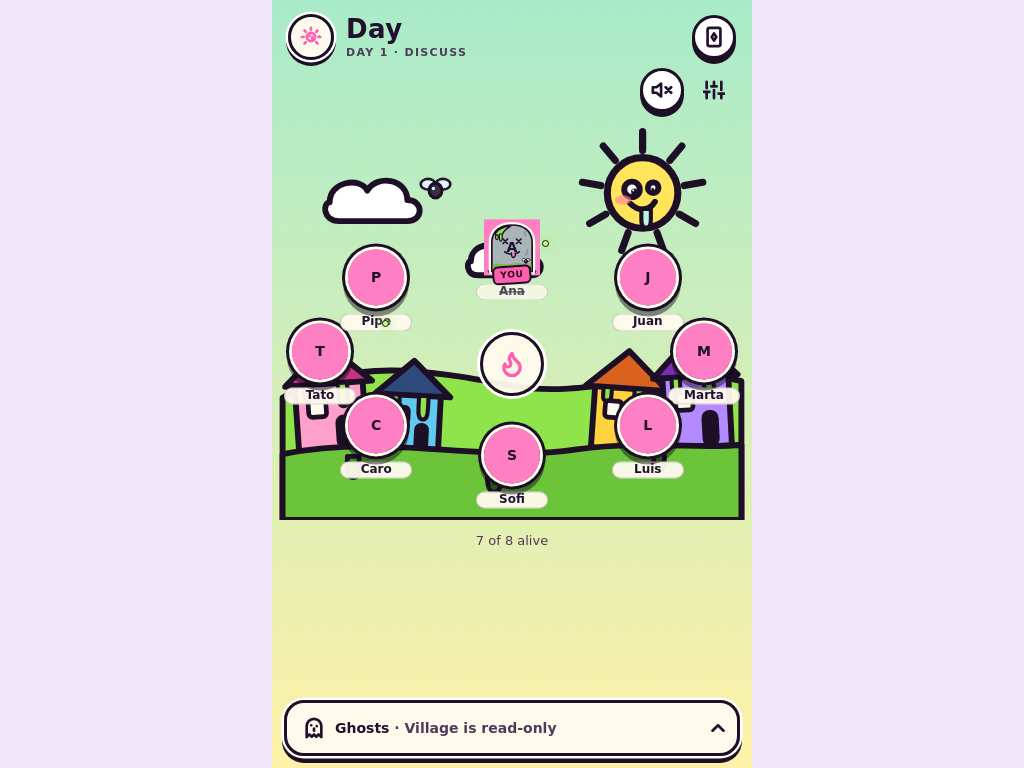
it: chat bar and sheet › keeps the village read-only for a ghost and opens on the ghosts
The image size is (1024, 768).
Click the button with class "chatbar" at {"x": 512, "y": 728}, box [284,700,740,756]
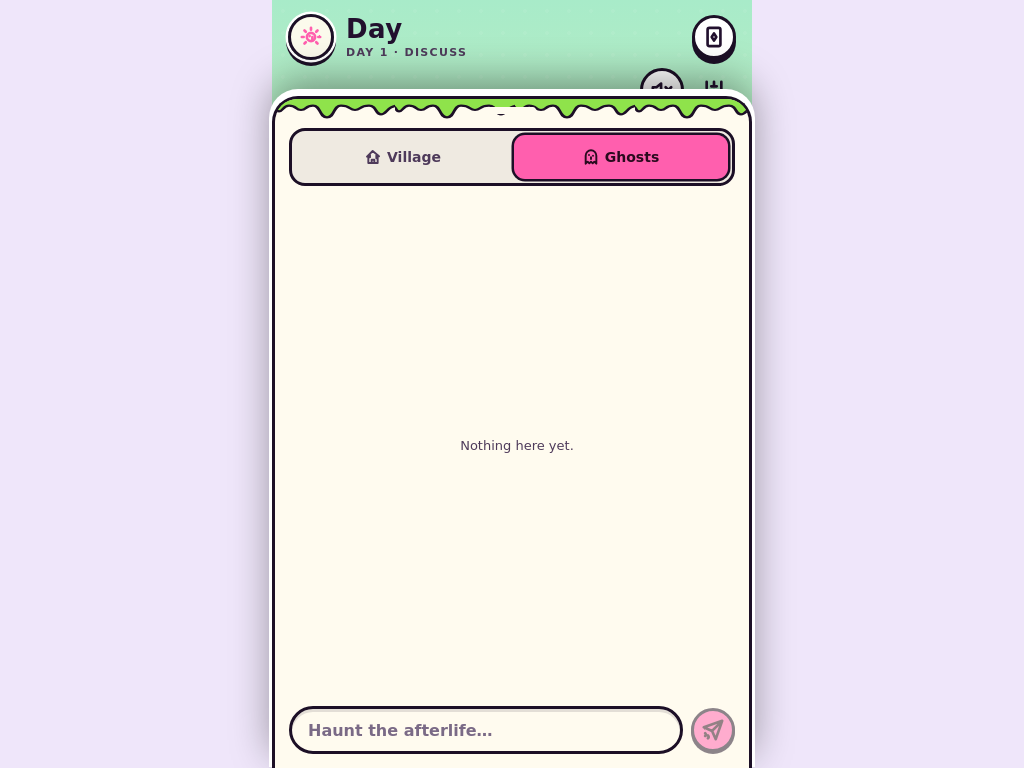
Result: the form with class "composer" is shown at [289,706,735,754]
Click the tab with class "tab" showing "Village" at {"x": 403, "y": 157}, box [296,135,510,179]
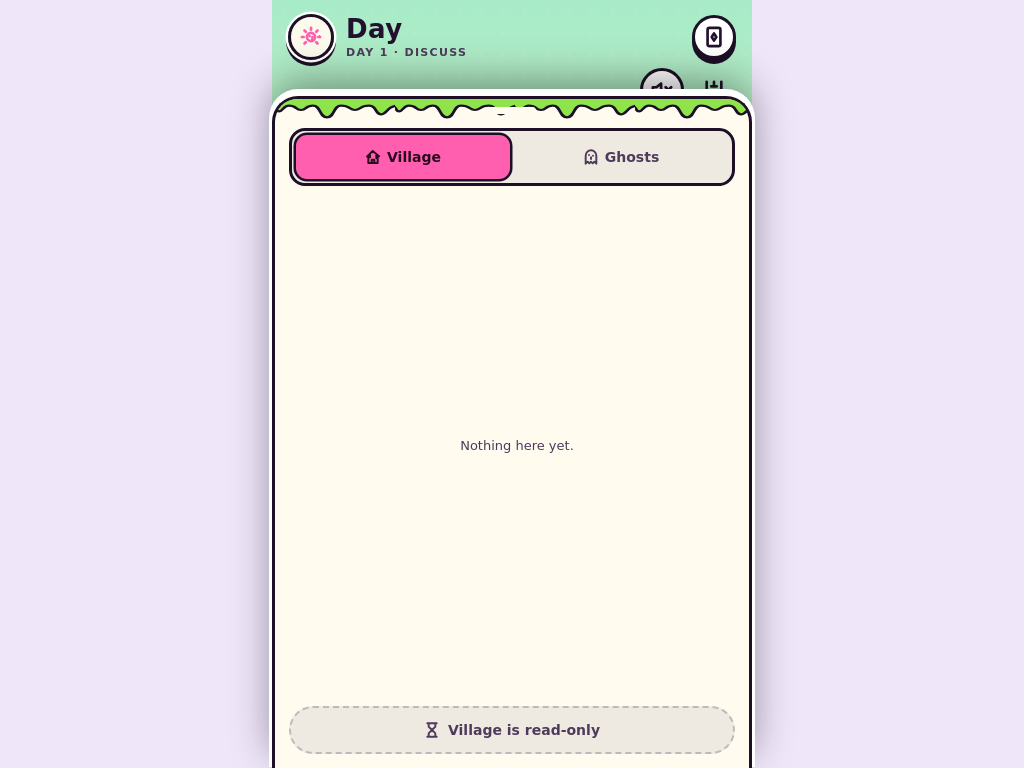
Result: the message with class "locked-note" reads "Village is read-only" at [448,722,600,738]
